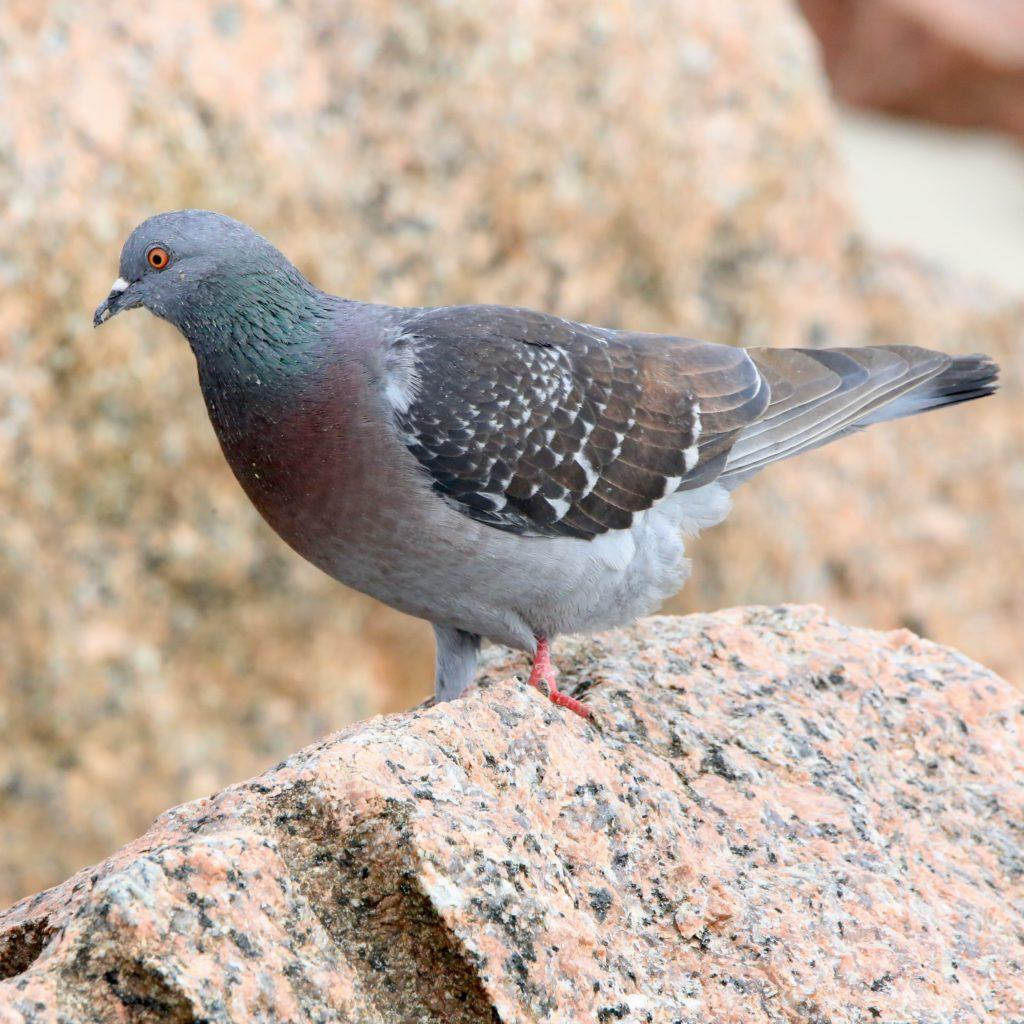Flying Rat: (85, 213, 1015, 727)
